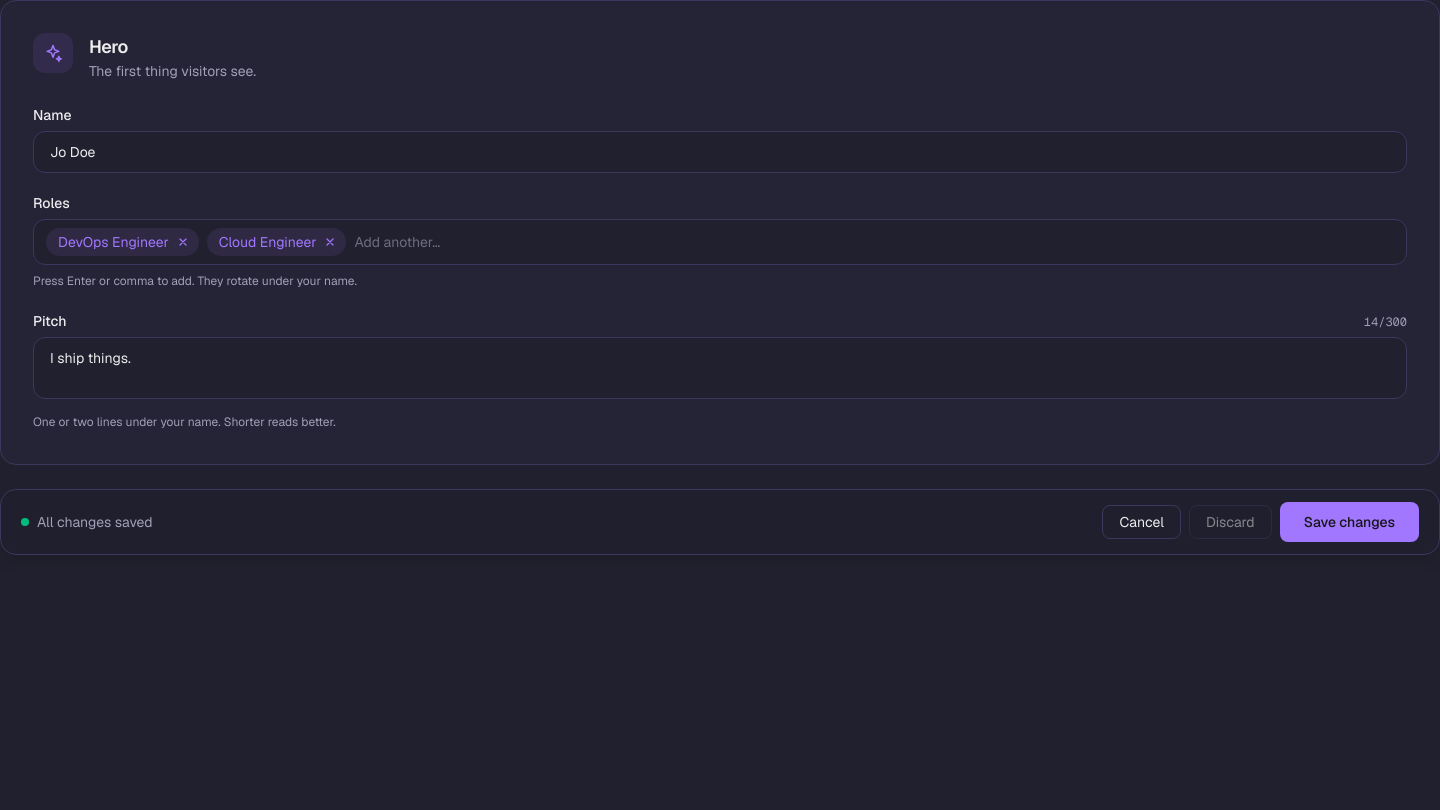
it: saving, discarding and warnings › shows the server's error and keeps the changes when the save fails
In the field labelled "Name": (720, 152) [33, 131, 1407, 173], type "!"
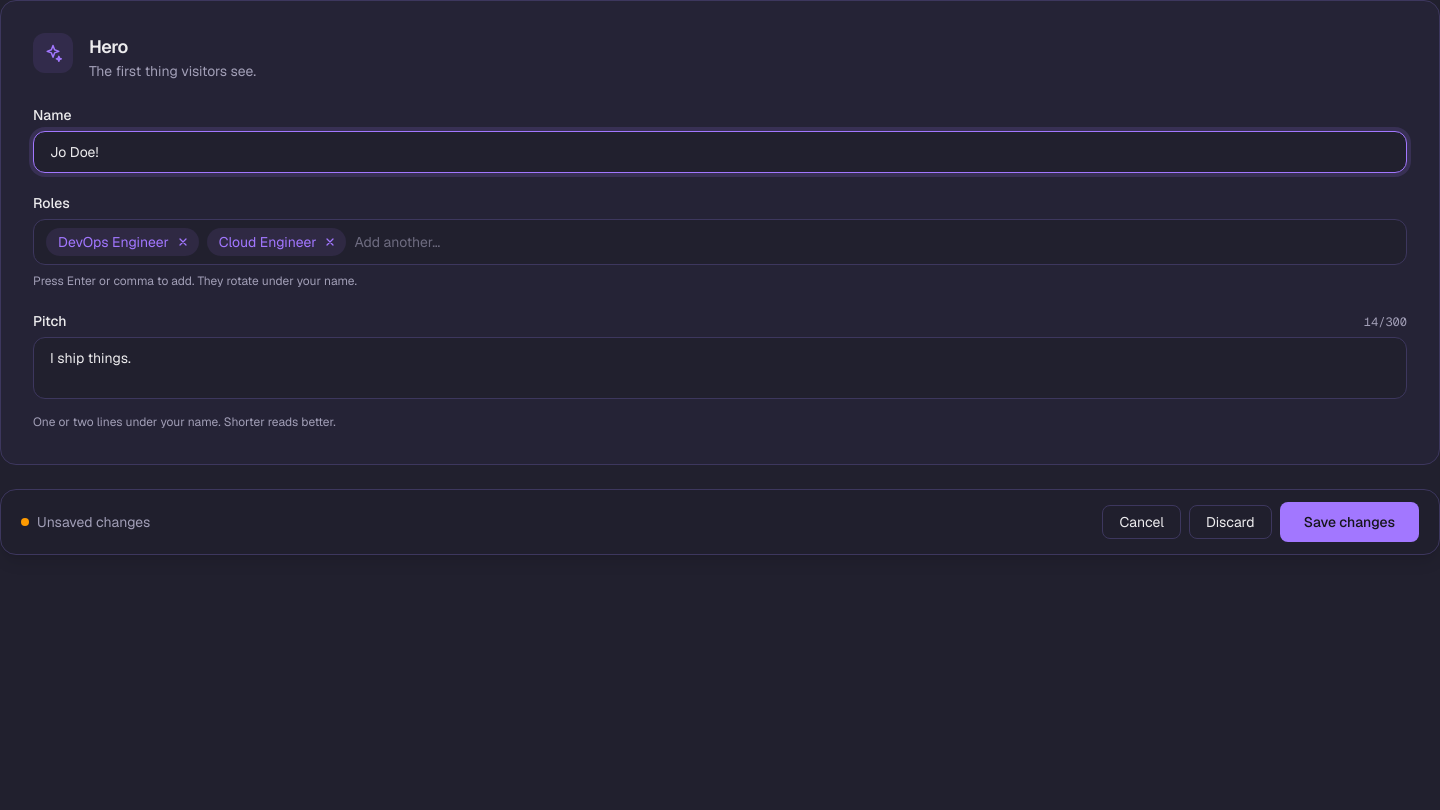
Click the button "Save changes": click(1349, 522) [1280, 502, 1419, 542]
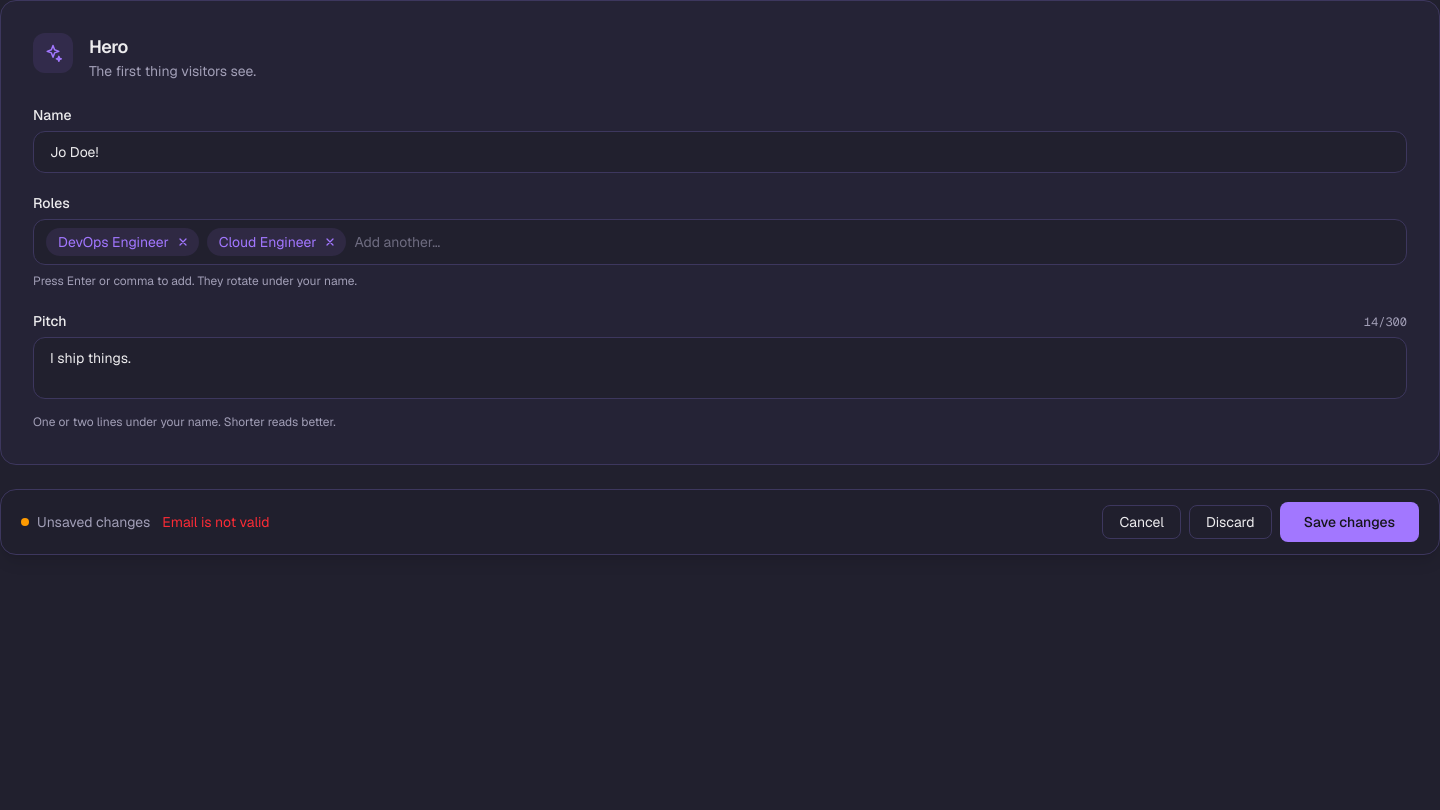
Check: the text "Unsaved changes" is shown, box [37, 512, 150, 532]
Check: the text "Email is not valid" is shown, box [162, 512, 270, 532]
